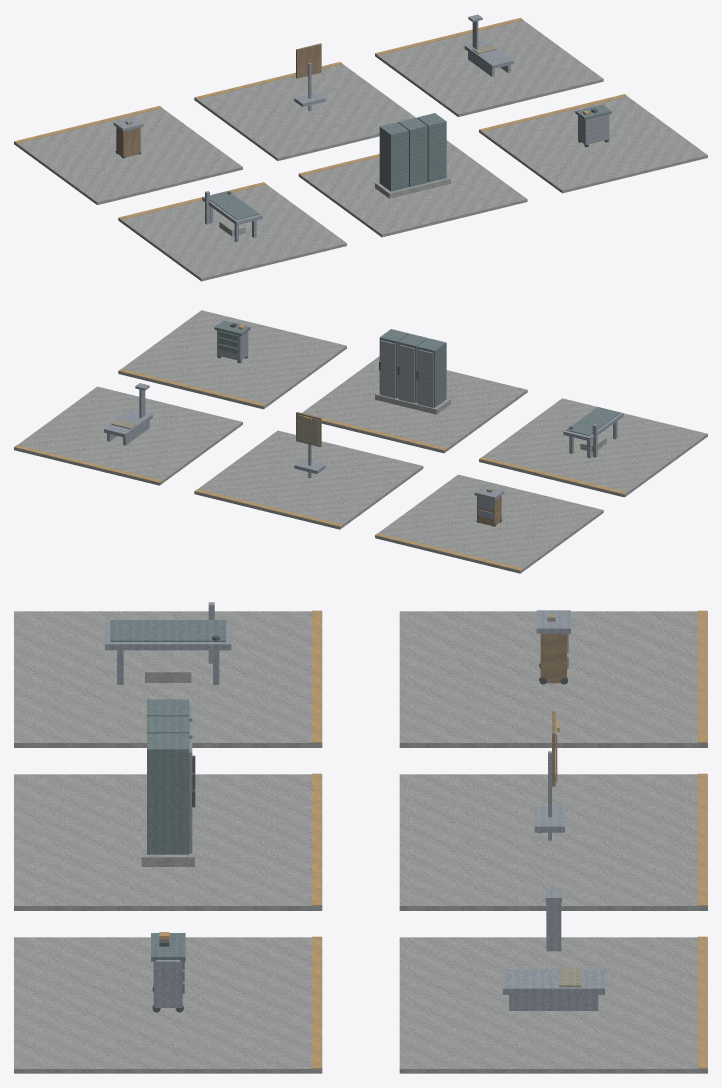
The model's file is level_blockout_kit_asylum_p02.glb.
3 renders of one model, top to bottom at view 1: azimuth 30°, elevation 25°; view 2: azimuth 150°, elevation 25°; view 3: azimuth 270°, elevation 25°, orthographic. The views are drawn at different scales.
Parts seen in each view (by area): view 1: level_blockout_kit_asylum_p02; view 2: level_blockout_kit_asylum_p02; view 3: level_blockout_kit_asylum_p02.
Boxes of the visible parts, x1,y1,x2,y2 form: level_blockout_kit_asylum_p02: (14,14,707,281); level_blockout_kit_asylum_p02: (14,310,707,573); level_blockout_kit_asylum_p02: (14,602,707,1073).
Bounding box in the file's own units: 19.65 × 2.46 × 12.6.
7 materials, 7 textured.
